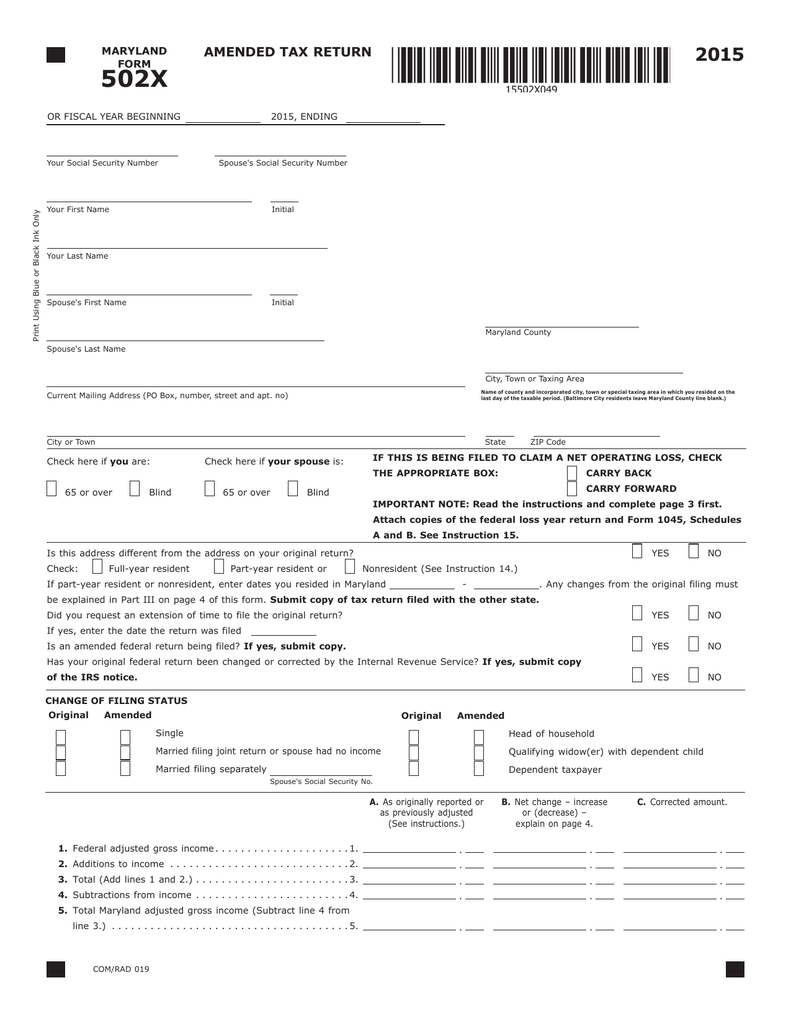checkbox: (469, 756, 488, 778), (127, 477, 142, 500), (202, 476, 217, 499), (286, 477, 301, 500), (565, 461, 580, 484), (565, 477, 580, 500), (630, 539, 645, 562), (686, 540, 701, 563), (90, 554, 105, 577), (211, 555, 226, 578), (342, 554, 357, 577), (629, 600, 644, 623), (686, 600, 701, 623), (630, 632, 645, 655), (686, 632, 701, 655), (630, 662, 645, 685), (686, 662, 701, 685), (53, 726, 68, 749), (54, 741, 69, 764), (54, 754, 69, 777), (117, 726, 132, 749), (118, 740, 133, 763), (119, 756, 134, 779), (406, 725, 421, 748), (407, 742, 422, 765), (406, 755, 421, 778), (471, 726, 486, 749), (473, 740, 488, 763), (44, 477, 59, 499)
textline: (42, 363, 470, 388), (42, 412, 470, 437), (45, 318, 322, 343), (48, 227, 329, 250), (44, 273, 253, 298), (44, 184, 256, 205), (481, 303, 635, 328), (480, 356, 679, 374), (42, 139, 182, 158), (211, 139, 351, 158), (531, 418, 671, 437), (265, 758, 373, 778), (360, 836, 458, 855), (491, 835, 589, 854), (621, 836, 719, 855), (361, 851, 459, 870), (360, 868, 458, 887), (361, 882, 459, 901), (361, 914, 459, 933), (492, 853, 590, 872), (491, 869, 589, 888), (492, 883, 590, 902), (492, 913, 590, 932), (621, 853, 719, 872), (620, 869, 718, 888), (622, 885, 720, 904), (622, 913, 720, 932), (182, 106, 266, 123), (343, 107, 427, 124), (469, 573, 541, 592), (247, 618, 319, 637), (385, 571, 456, 590), (266, 182, 302, 205), (266, 276, 302, 299), (483, 414, 519, 437), (463, 853, 486, 873), (463, 867, 486, 887), (463, 882, 486, 902), (464, 912, 487, 932), (463, 837, 486, 855), (593, 836, 616, 854), (724, 836, 747, 854), (594, 853, 617, 871), (594, 869, 617, 887), (593, 884, 616, 902), (594, 915, 617, 933), (724, 854, 747, 872), (723, 868, 746, 886), (724, 883, 747, 901), (724, 914, 747, 932)
